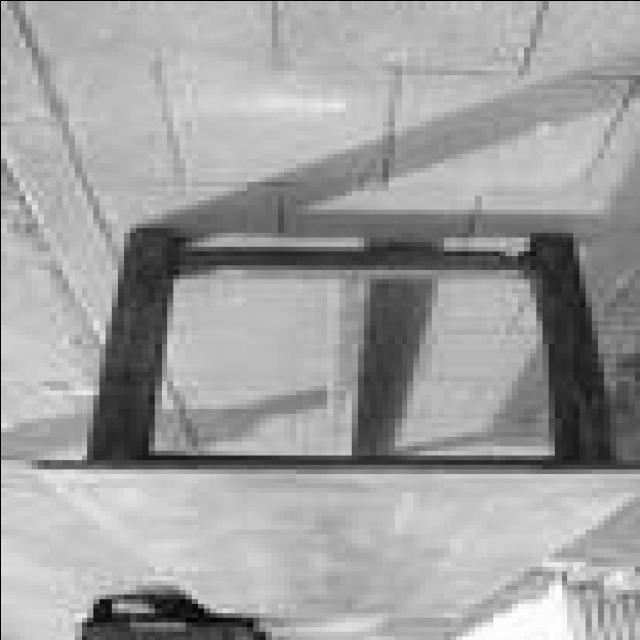table: (31, 227, 634, 626)
